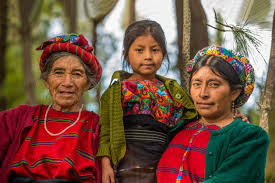no_mask: (186, 57, 242, 123), (42, 51, 96, 111), (122, 20, 169, 79)
